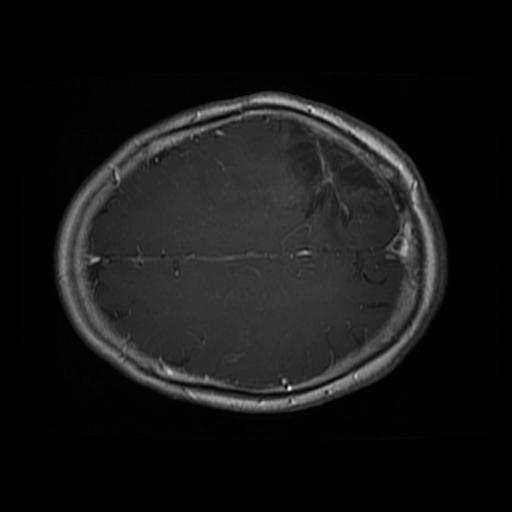glioma: (278, 121, 386, 231)
